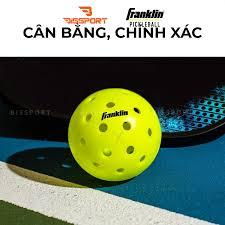ball: (66, 83, 164, 184)
